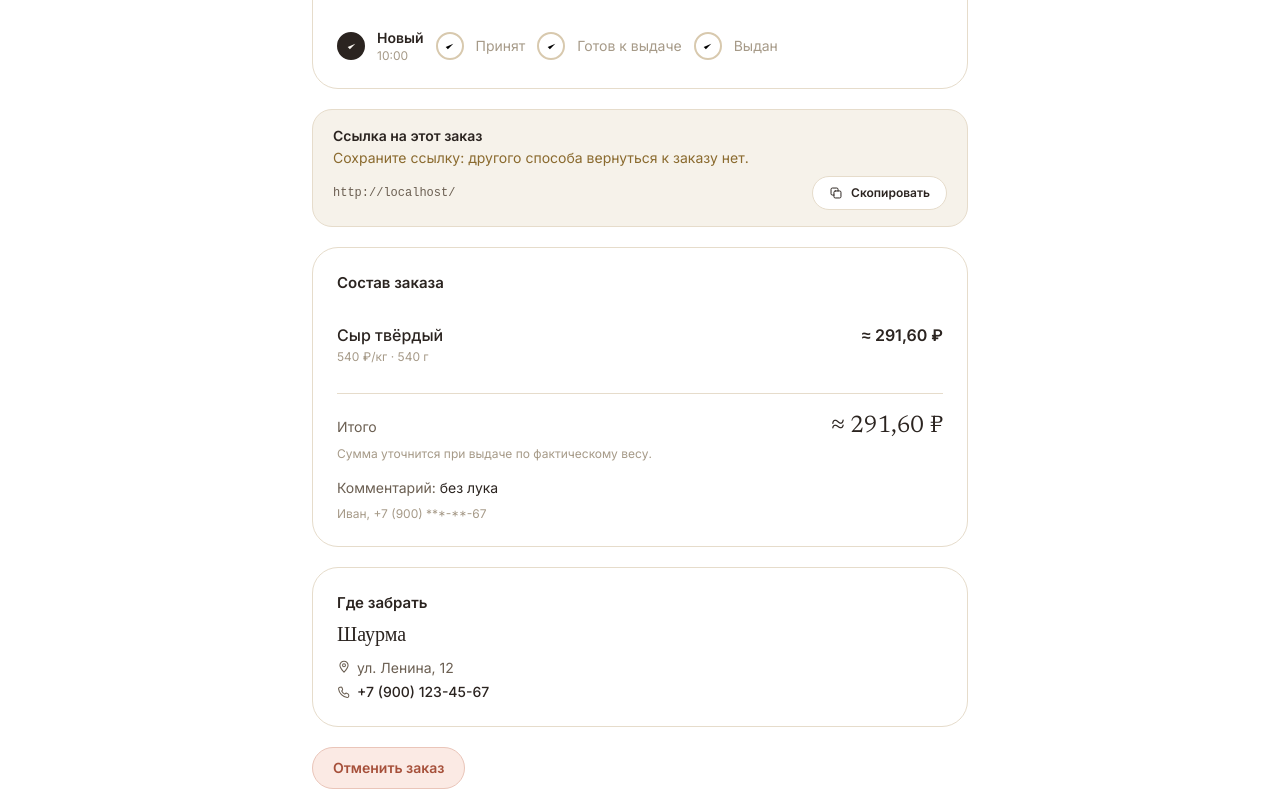
Scenario: OrderPage › when the order is already ready, shows the server message and the fresh order from the body
(page scrolled)
Click the button "Отменить заказ".
click(389, 768)  # box 312,747 -> 466,788
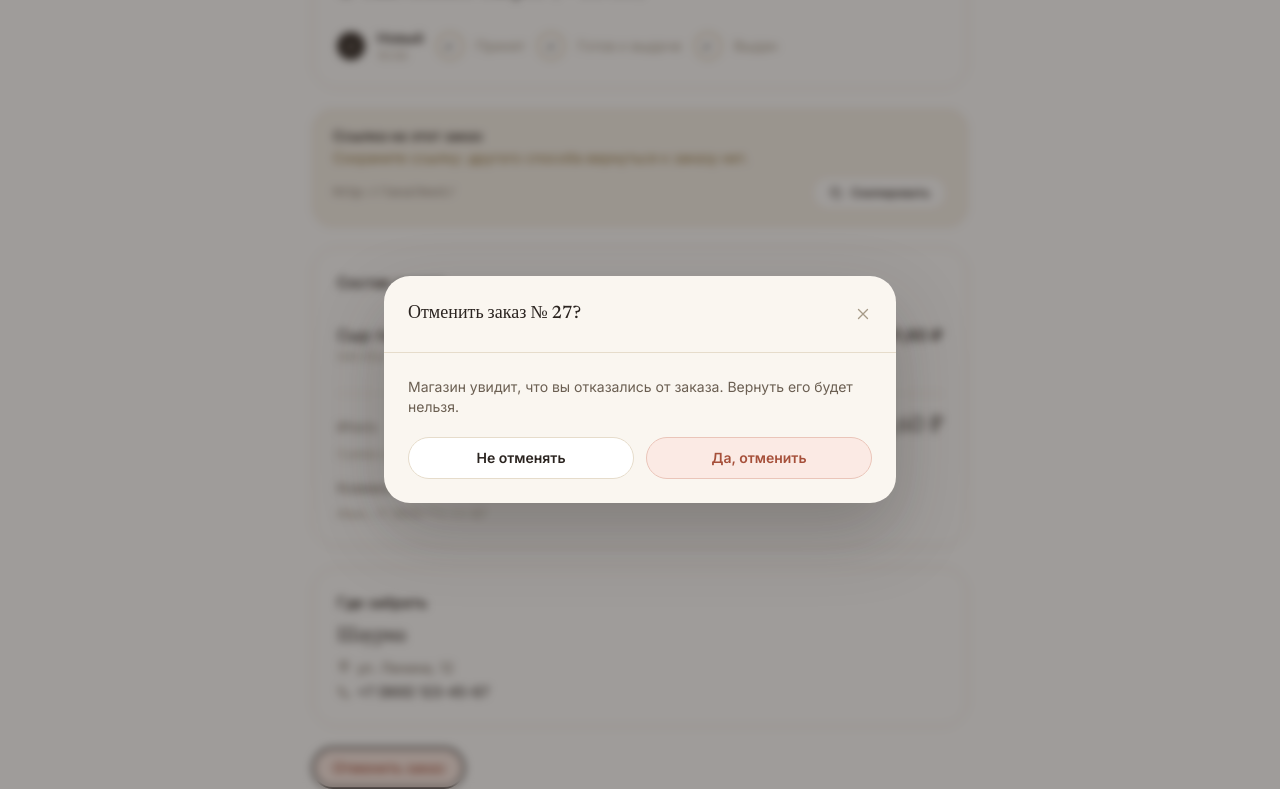
Click the button "Да, отменить".
click(759, 458)  # box 646,436 -> 872,478
(page scrolled)
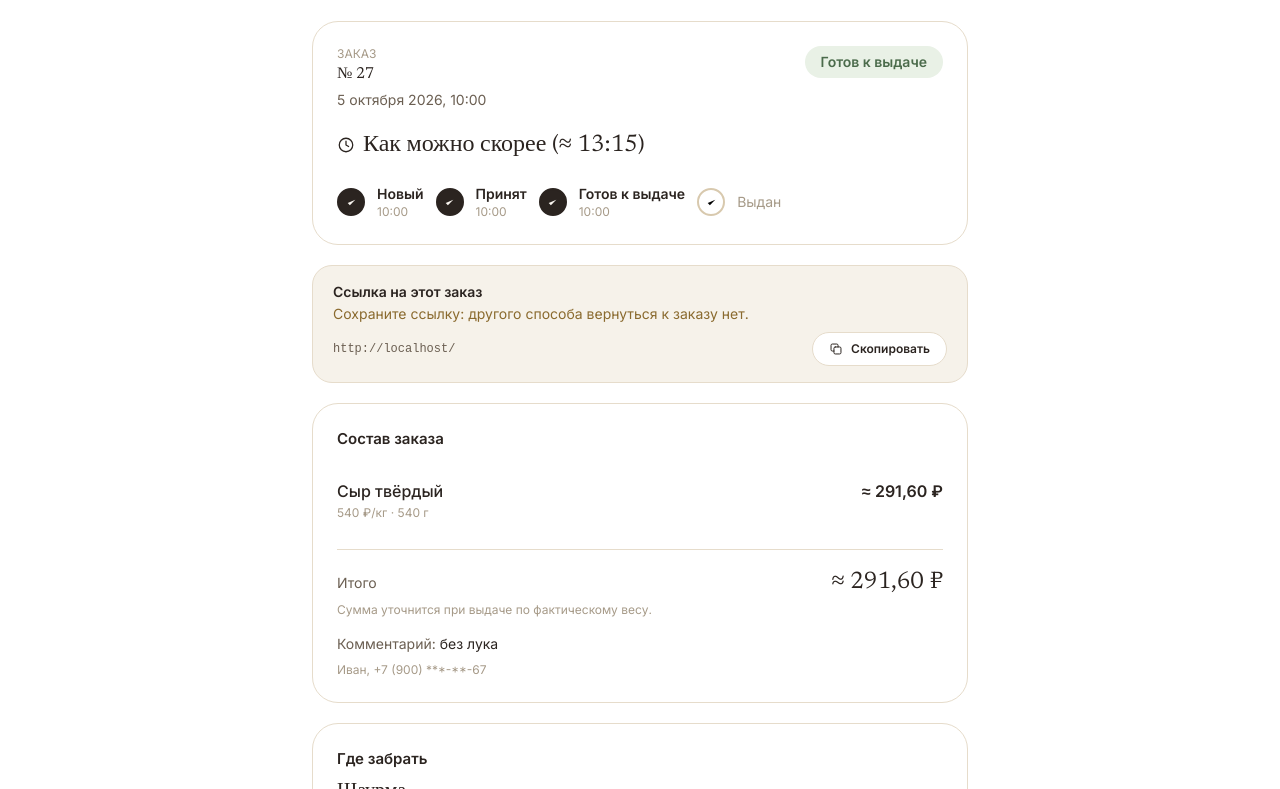
Result: the text "Готов к выдаче" is shown at 805,46 -> 943,78
Result: the button "Отменить заказ" is gone
